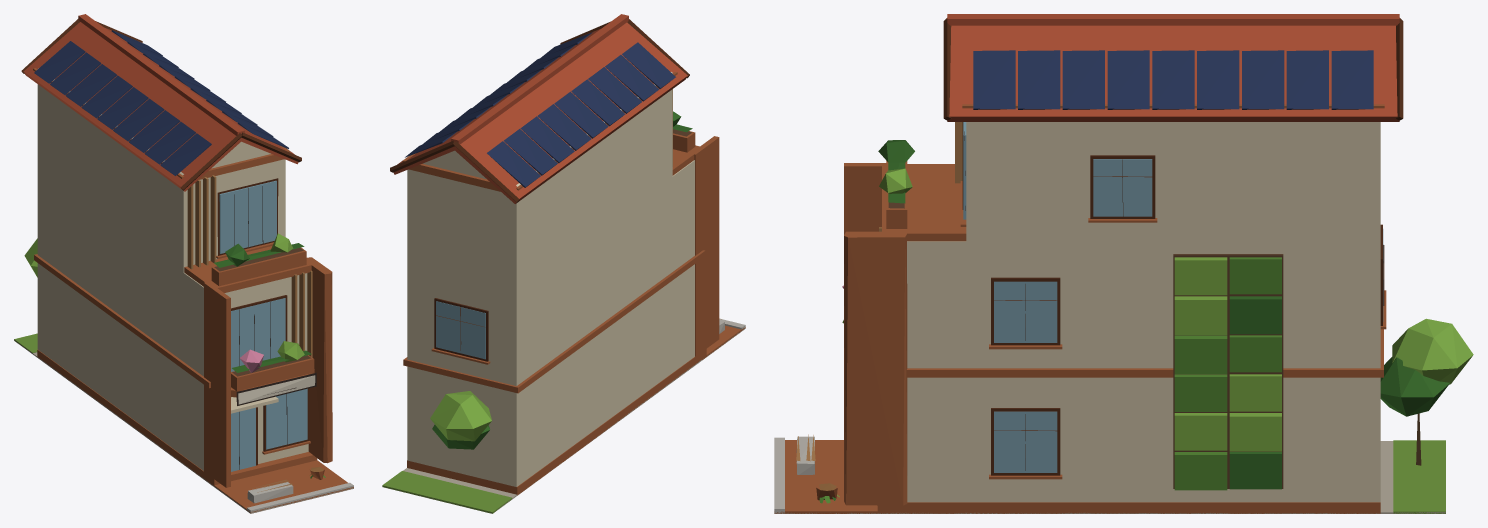
File: bay1_right.glb
The picture shows the model from 3 angles, left to right: view 1: azimuth 30°, elevation 25°; view 2: azimuth 150°, elevation 25°; view 3: azimuth 270°, elevation 25°; orthographic projection. The views are drawn at different scales.
Visible parts, largest first — view 1: body; view 2: body; view 3: body.
Part boxes in pixels (x1,y1,x2,y2): body: (14,14,353,513); body: (382,14,745,513); body: (774,14,1473,513).
Bounding box in the file's own units: 4.7 × 12.3 × 16.56.
